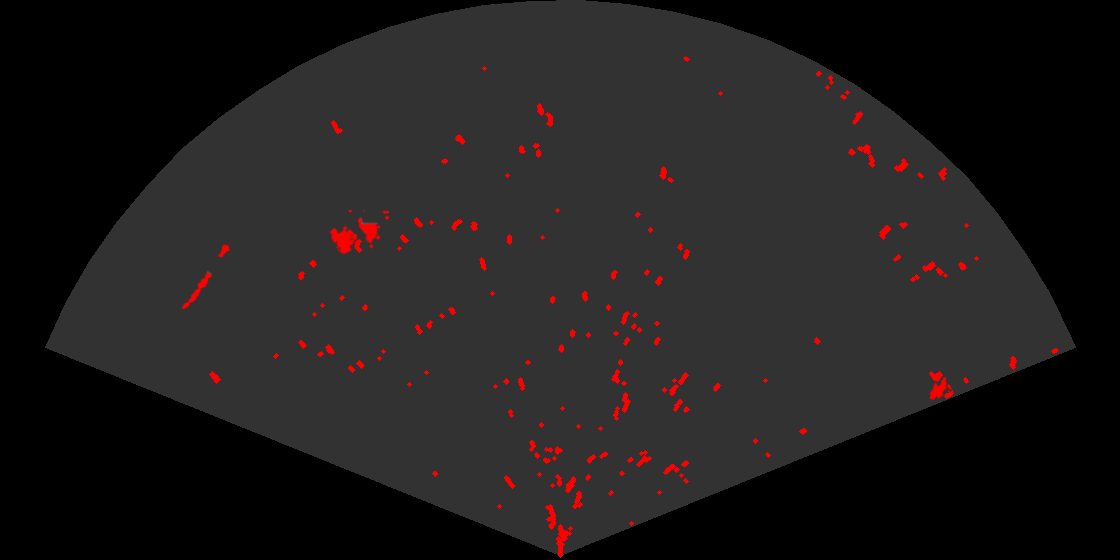AUV: (928, 375, 952, 402)
cage: (328, 210, 389, 256)
chain: (180, 239, 234, 311)
